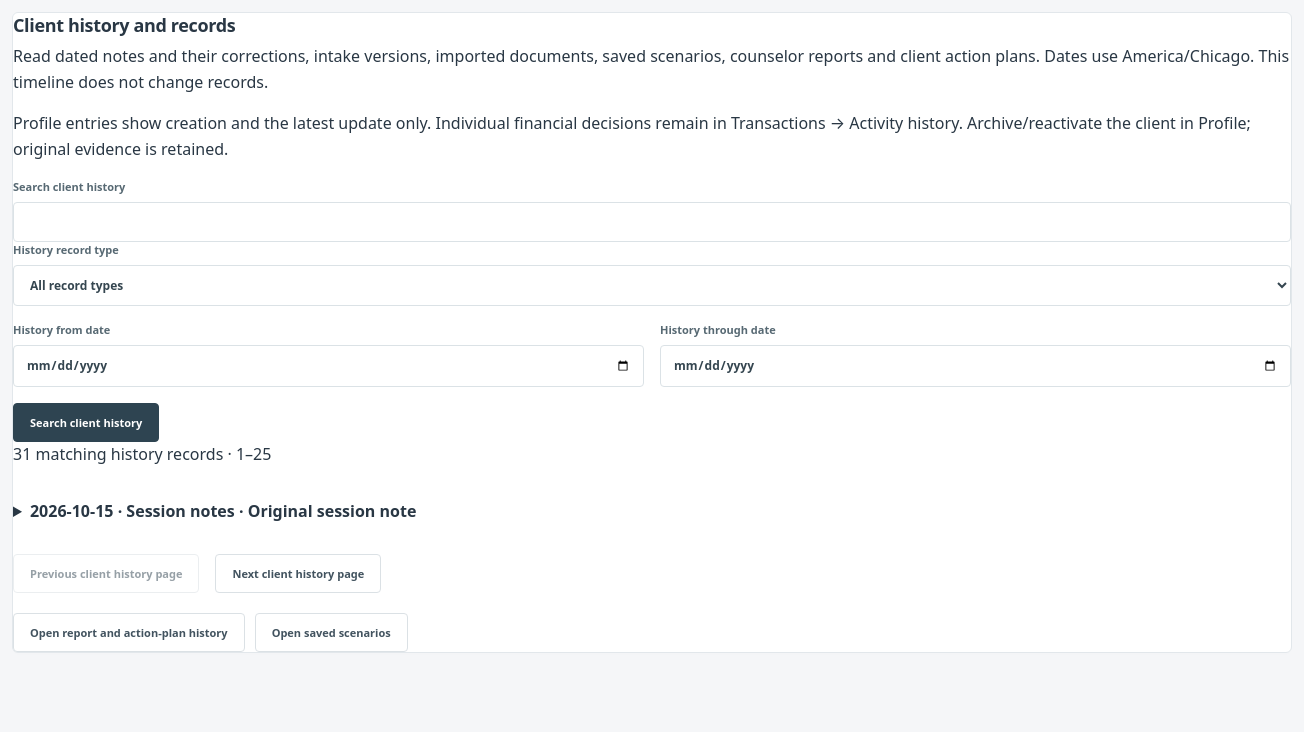
ignores late client replies and rejects mismatched scope
The width and height of the screenshot is (1304, 732).
Expected: the text "31 matching history records · 1–25" is shown, [13,443,271,465]
Click the button "Search client history": {"x": 86, "y": 422} [13,403,159,442]
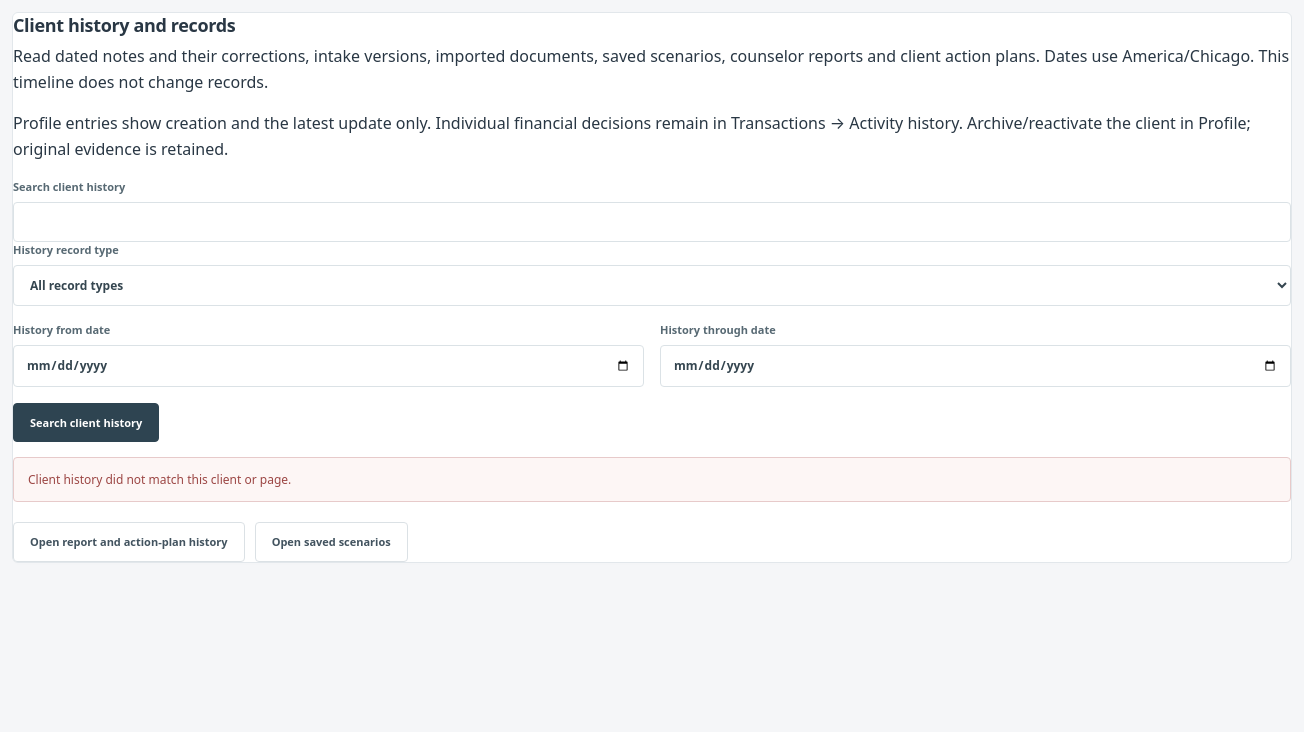
Expected: the text "Client history did not match this client or page." is shown, [13,457,1291,502]
Expected: the text "31 matching" is gone
